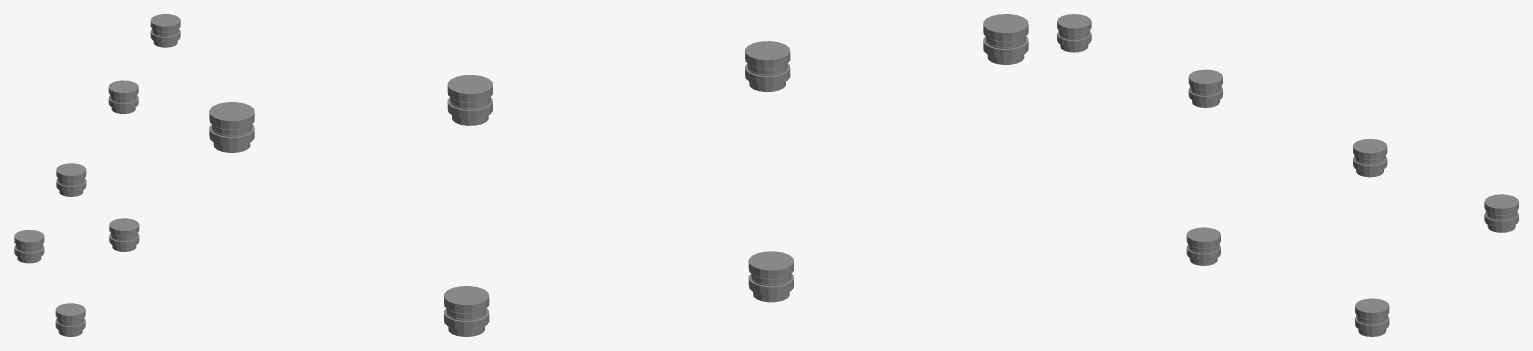
Rendered from eletric_(pole)_metal_(matte)_0.001_lev3.glb.
3 views of the same model, side by side, from view 1: azimuth 30°, elevation 25°; view 2: azimuth 150°, elevation 25°; view 3: azimuth 270°, elevation 25° (orthographic). The views are drawn at different scales.
Parts seen in each view (by area): view 1: eletric_(pole)_metal_(matte)_0.001_lev3; view 2: eletric_(pole)_metal_(matte)_0.001_lev3; view 3: eletric_(pole)_metal_(matte)_0.001_lev3.
Part boxes in pixels (x1=…): eletric_(pole)_metal_(matte)_0.001_lev3: x1=14, y1=14, x2=180, y2=336; eletric_(pole)_metal_(matte)_0.001_lev3: x1=209, y1=14, x2=1028, y2=336; eletric_(pole)_metal_(matte)_0.001_lev3: x1=1057, y1=14, x2=1518, y2=336.
Size of the model in its own units: 1.28 by 0.5627 by 1.28.
Materials: 1 (1 with a texture image).
